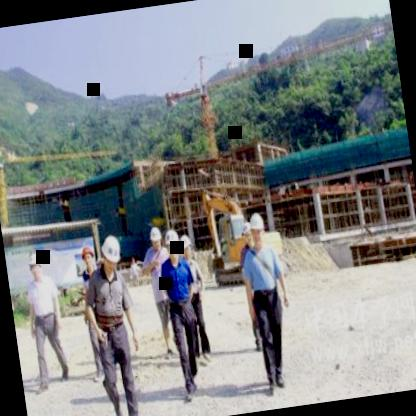helmet: (98, 231, 124, 278), (248, 210, 268, 249), (163, 225, 181, 262), (27, 251, 44, 280), (80, 244, 96, 274), (147, 222, 163, 252), (179, 232, 194, 264), (239, 222, 255, 252)
